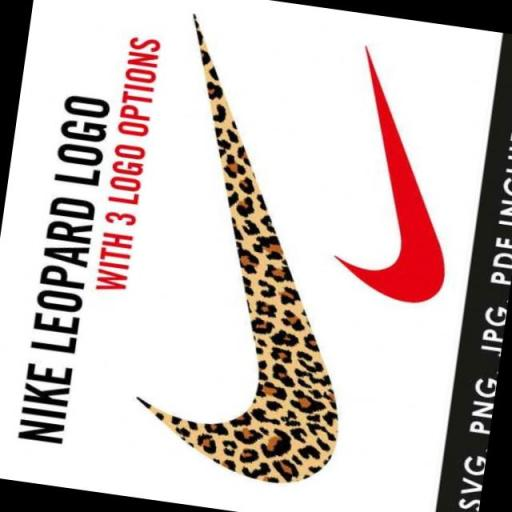Nike: (324, 40, 479, 310)
